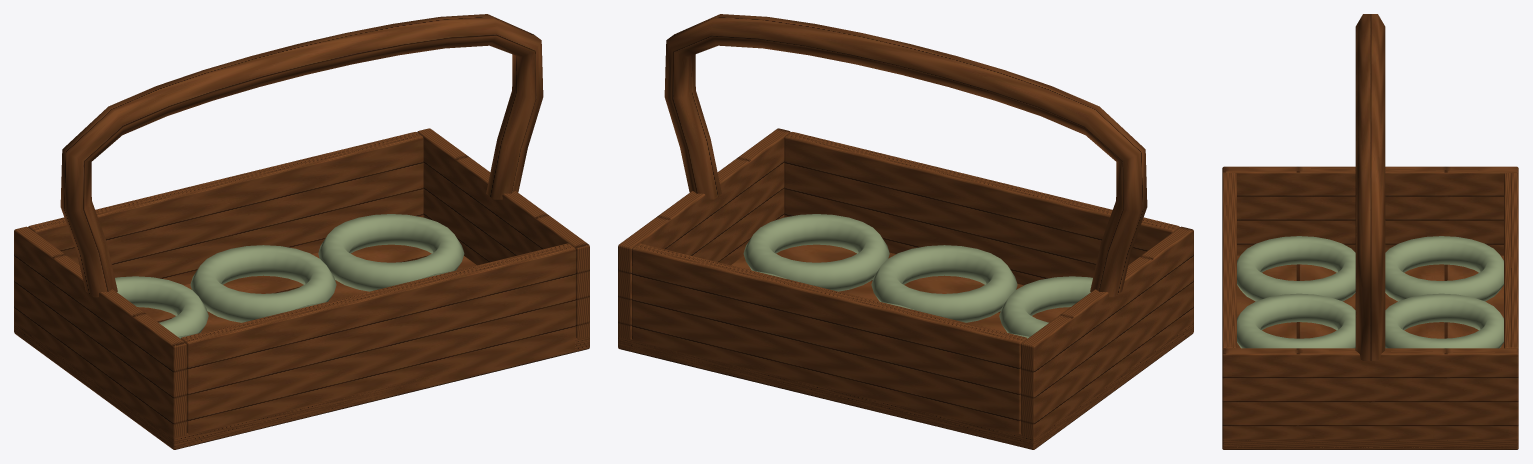
Rendered from creature-husbandry-and-transport-egg-carrier-1776fb53__24007.glb.
3 views of the same model, side by side, from view 1: azimuth 30°, elevation 25°; view 2: azimuth 150°, elevation 25°; view 3: azimuth 270°, elevation 25° (orthographic). The views are drawn at different scales.
Parts seen in each view (by area): view 1: egg-carrier; view 2: egg-carrier; view 3: egg-carrier.
Part boxes in pixels (bbox=[...]): egg-carrier: bbox=[14, 14, 589, 449]; egg-carrier: bbox=[618, 14, 1193, 449]; egg-carrier: bbox=[1222, 14, 1518, 449].
Bounding box in the file's own units: 0.8541 × 0.5067 × 0.5.
2 materials, 1 textured.
